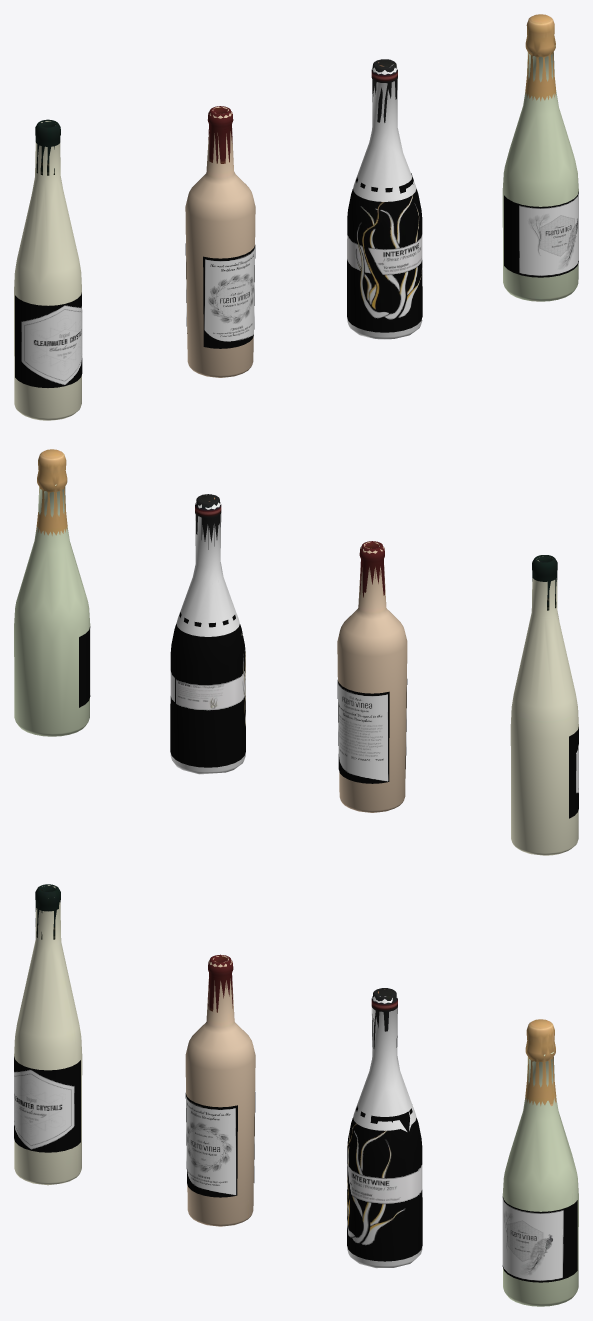
The model's file is wine_bottles_01.glb.
3 views of the same model, one above another, from view 1: azimuth 30°, elevation 25°; view 2: azimuth 150°, elevation 25°; view 3: azimuth 330°, elevation 25° (orthographic).
Visible parts, largest first — view 1: wine_bottles_01_champagne, wine_bottles_01_alsace, wine_bottles_01_burgundy, wine_bottles_01_bordeaux; view 2: wine_bottles_01_champagne, wine_bottles_01_alsace, wine_bottles_01_burgundy, wine_bottles_01_bordeaux; view 3: wine_bottles_01_champagne, wine_bottles_01_alsace, wine_bottles_01_burgundy, wine_bottles_01_bordeaux.
Part boxes in pixels (x1,y1,x2,y2): wine_bottles_01_champagne: (502,14,578,301); wine_bottles_01_alsace: (14,119,82,420); wine_bottles_01_burgundy: (347,59,422,339); wine_bottles_01_bordeaux: (185,106,255,377); wine_bottles_01_champagne: (14,449,90,736); wine_bottles_01_alsace: (510,555,578,855); wine_bottles_01_burgundy: (170,494,245,774); wine_bottles_01_bordeaux: (337,541,407,812); wine_bottles_01_champagne: (502,1019,578,1306); wine_bottles_01_alsace: (14,884,82,1185); wine_bottles_01_burgundy: (347,988,422,1268); wine_bottles_01_bordeaux: (185,954,255,1226).
Size of the model in its own units: 0.6763 by 0.3314 by 0.0805.
9 materials, 6 textured.
